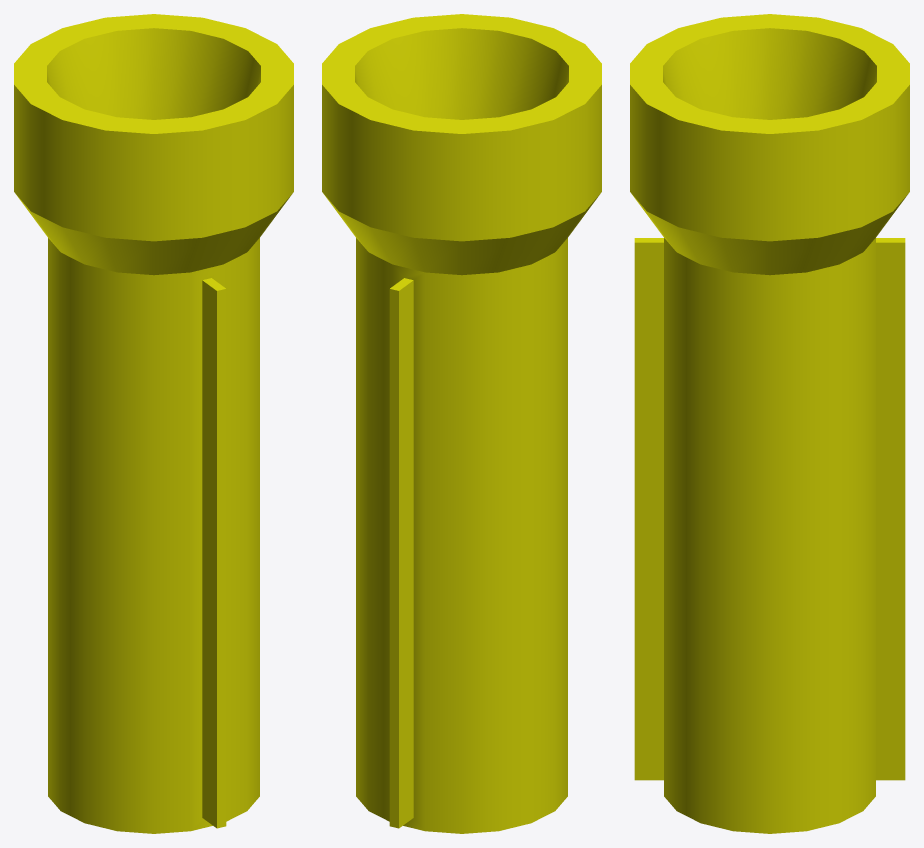
Rendered from SM_pipe50cm.fbx.
3 views of the same model, side by side, from view 1: azimuth 30°, elevation 25°; view 2: azimuth 150°, elevation 25°; view 3: azimuth 270°, elevation 25° (orthographic).
Parts seen in each view (by area): view 1: pCylinder30; view 2: pCylinder30; view 3: pCylinder30.
Boxes of the visible parts, x1,y1,x2,y2 form: pCylinder30: [14, 14, 293, 833]; pCylinder30: [322, 14, 601, 833]; pCylinder30: [630, 14, 909, 833].
Size of the model in its own units: 23.06 by 63.93 by 22.71.
